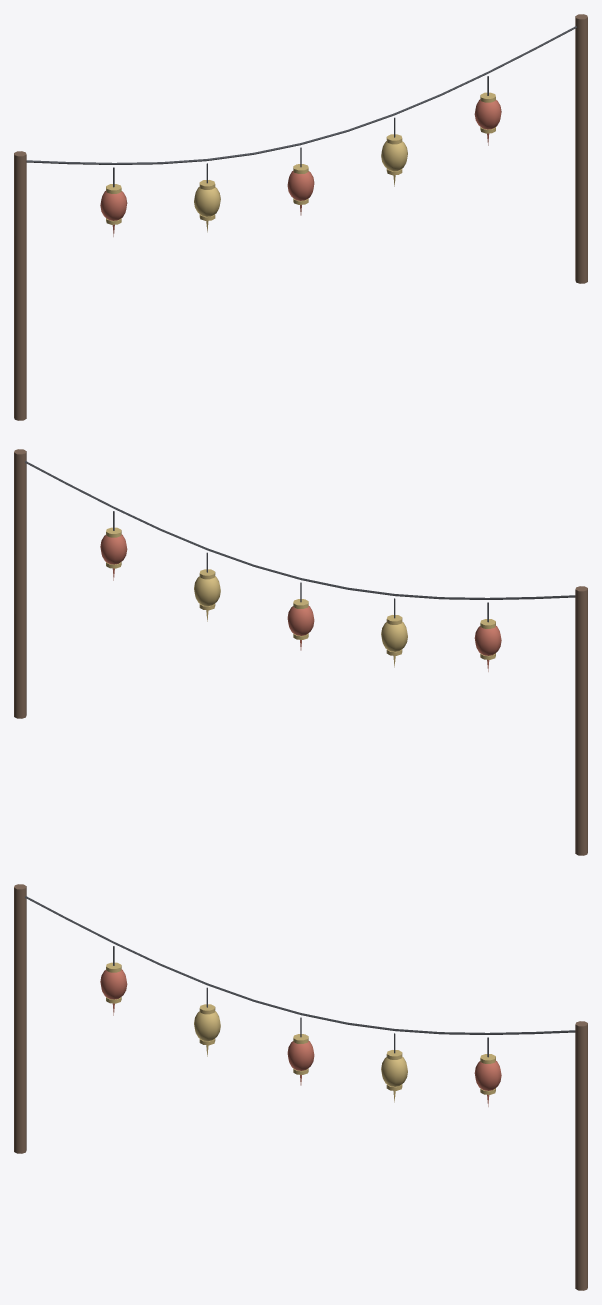
The model's file is lantern_string.glb.
The picture shows the model from 3 angles, top to bottom: view 1: azimuth 30°, elevation 25°; view 2: azimuth 150°, elevation 25°; view 3: azimuth 330°, elevation 25°; orthographic projection.
Parts seen in each view (by area): view 1: LanternString; view 2: LanternString; view 3: LanternString.
Boxes of the visible parts, box(x1,y1,x2,y2) form: LanternString: box(14, 14, 587, 420); LanternString: box(14, 449, 587, 855); LanternString: box(14, 884, 587, 1290).
Size of what is drawn, in the model's own units: 8.16 by 3.6 by 0.34.
